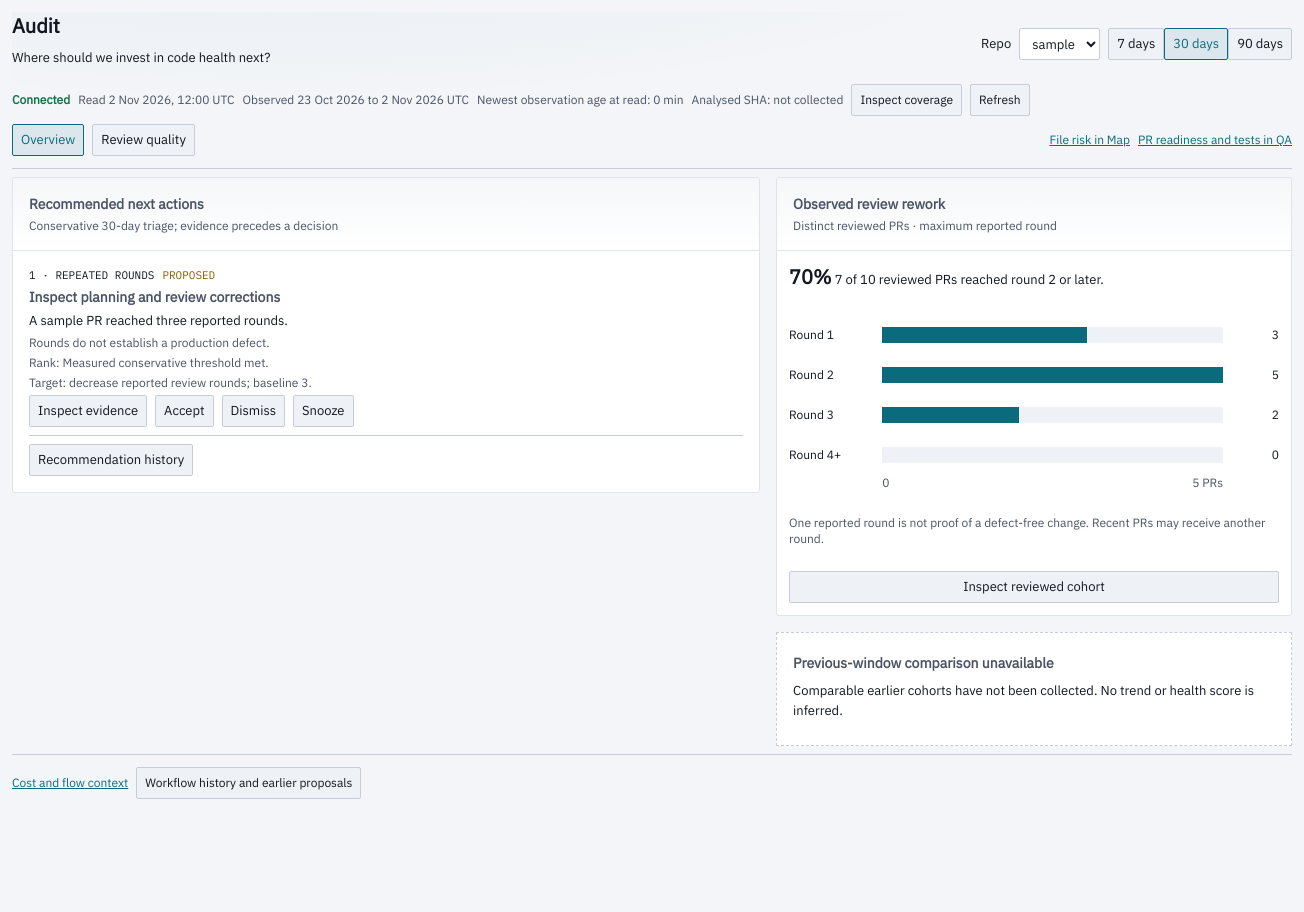
Test: does not display the previous repo while a new scoped read fails
Check: the heading "Inspect planning and review corrections" is shown, box [29,288,280,306]
Step 1. Select "other" in the dropdown labelled "Repo" → [1060, 44], box [1019,28,1100,60]
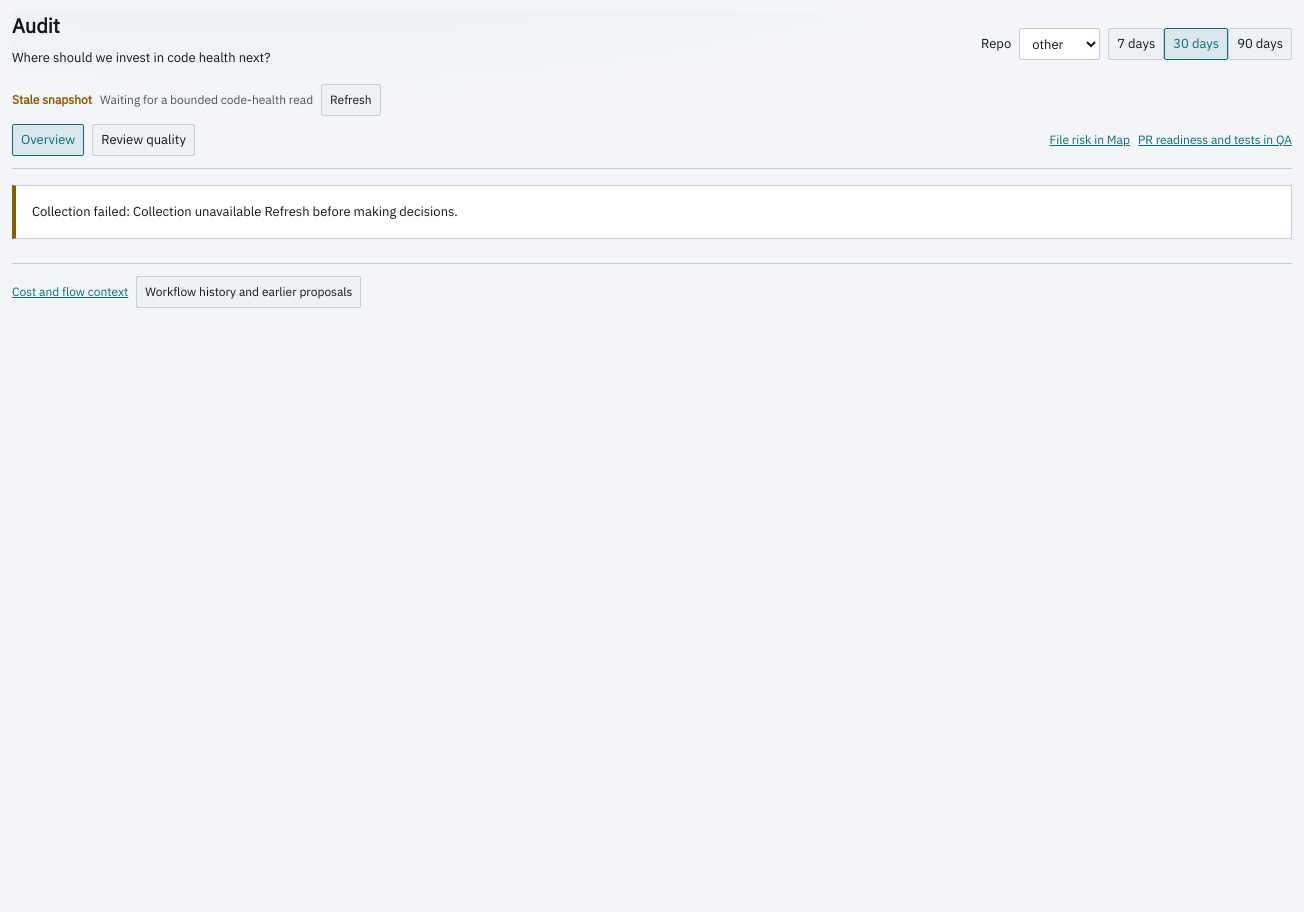
Check: the message "Collection failed: Collection unavailable Refresh before making decisions." is shown, box [12,185,1292,239]
Check: the heading "Inspect planning and review corrections" is gone
